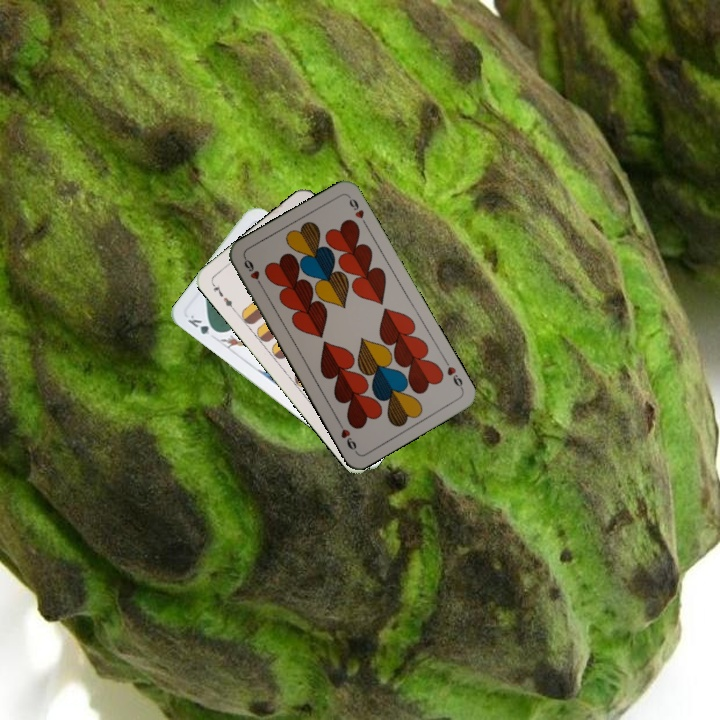E7: (208, 279, 237, 313)
GK: (183, 311, 221, 337)
H9: (240, 253, 266, 291), (443, 362, 466, 393)
